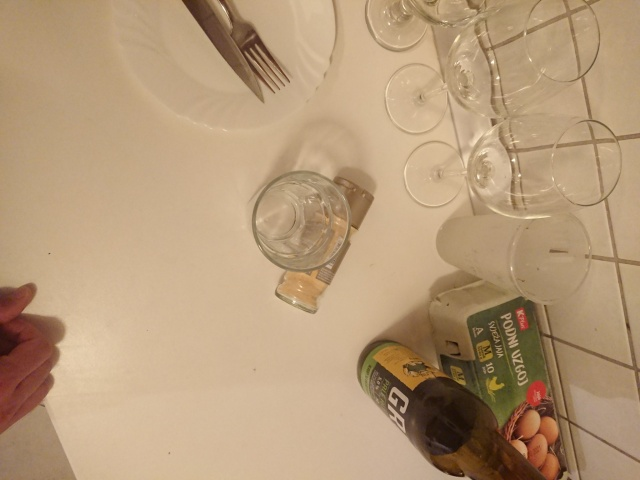Kotanyi Garlic Granules 70g: (272, 173, 378, 318)
